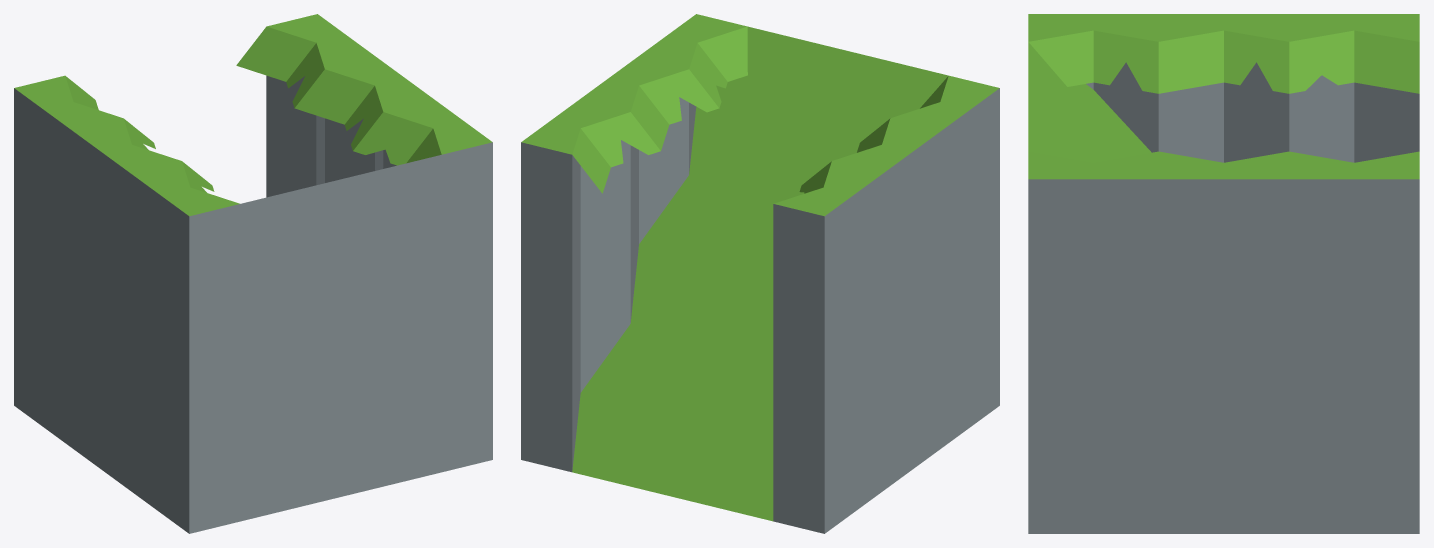
The model's file is cliff_blockSlopeWalls_stone.glb.
3 renders of one model, left to right at view 1: azimuth 30°, elevation 25°; view 2: azimuth 150°, elevation 25°; view 3: azimuth 270°, elevation 25°, orthographic. The views are drawn at different scales.
Parts seen in each view (by area): view 1: cliff_blockSlopeWalls_stone; view 2: cliff_blockSlopeWalls_stone; view 3: cliff_blockSlopeWalls_stone.
Part boxes in pixels (box(x1,y1,x2,y2)): cliff_blockSlopeWalls_stone: box(14, 14, 492, 533); cliff_blockSlopeWalls_stone: box(521, 14, 999, 533); cliff_blockSlopeWalls_stone: box(1028, 14, 1419, 533).
Bounding box in the file's own units: 1 × 1 × 1.
